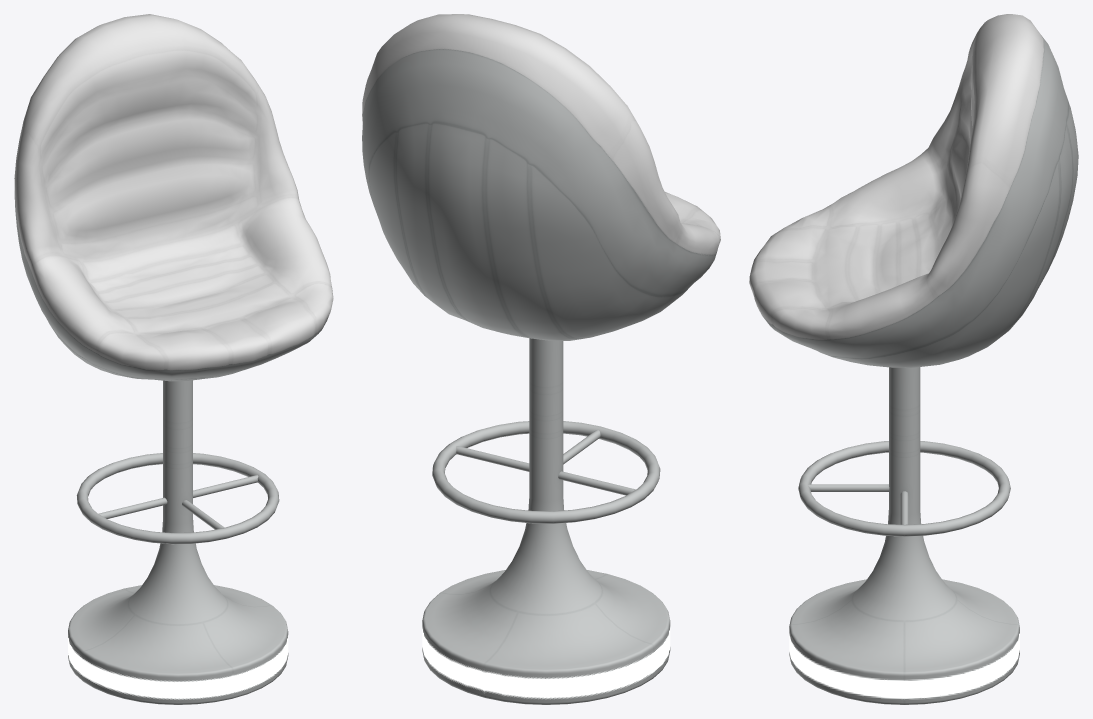
Rendered from BarChair04.FBX.
3 views of the same model, side by side, from view 1: azimuth 30°, elevation 25°; view 2: azimuth 150°, elevation 25°; view 3: azimuth 270°, elevation 25° (orthographic). The views are drawn at different scales.
Parts seen in each view (by area): view 1: BarChair04; view 2: BarChair04; view 3: BarChair04.
Boxes of the visible parts, x1,y1,x2,y2 form: BarChair04: (14, 14, 333, 704); BarChair04: (362, 14, 720, 704); BarChair04: (749, 14, 1078, 704).
Size of what is drawn, in the model's own units: 0.6038 by 1.29 by 0.6132.
